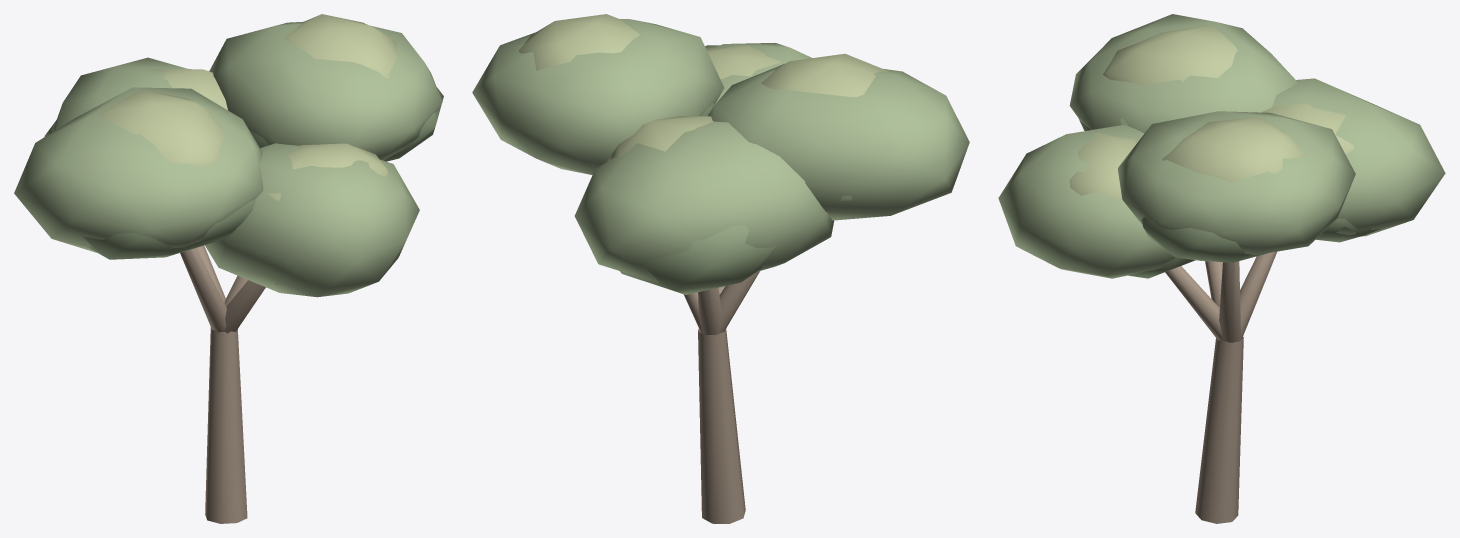
Rendered from tree_ceibo_1.glb.
3 views of the same model, side by side, from view 1: azimuth 30°, elevation 25°; view 2: azimuth 150°, elevation 25°; view 3: azimuth 270°, elevation 25° (orthographic). The views are drawn at different scales.
Visible parts, largest first — view 1: tree_ceibo_1.glb; view 2: tree_ceibo_1.glb; view 3: tree_ceibo_1.glb.
Part boxes in pixels (box(x1,y1,x2,y2)): tree_ceibo_1.glb: box(14, 14, 443, 523); tree_ceibo_1.glb: box(472, 14, 969, 523); tree_ceibo_1.glb: box(998, 14, 1445, 523).
Bounding box in the file's own units: 5.56 × 5.71 × 5.18.
